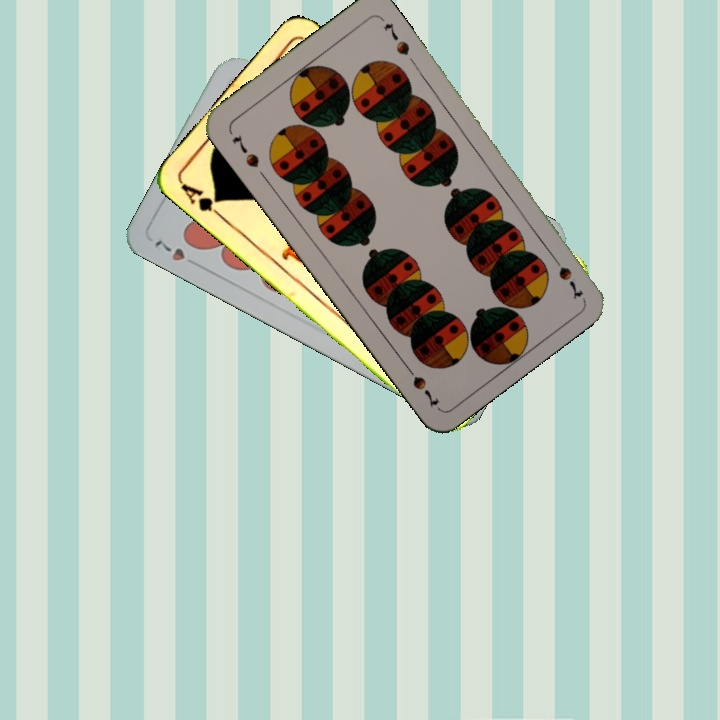GA: (176, 179, 227, 222)
H7: (149, 235, 203, 270)
S7: (228, 130, 262, 170), (545, 248, 575, 284)
